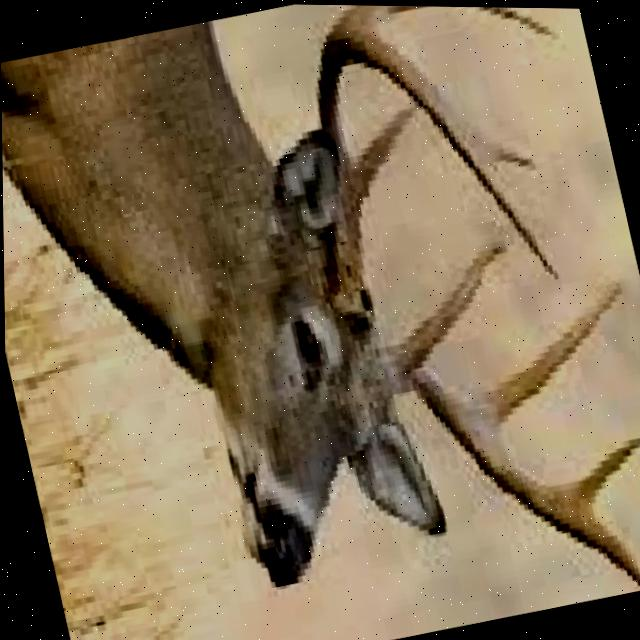E1: (478, 130, 535, 169)
L-G1: (397, 238, 509, 365)
L-G2: (459, 280, 624, 433)
L-G3: (561, 433, 640, 506)
R-F: (318, 29, 559, 313)
R-G1: (353, 104, 412, 200)
R-G2: (331, 4, 418, 33)
